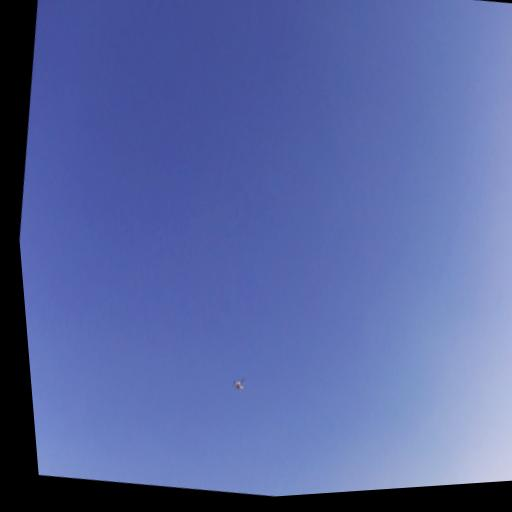drones: (228, 372, 249, 396)
